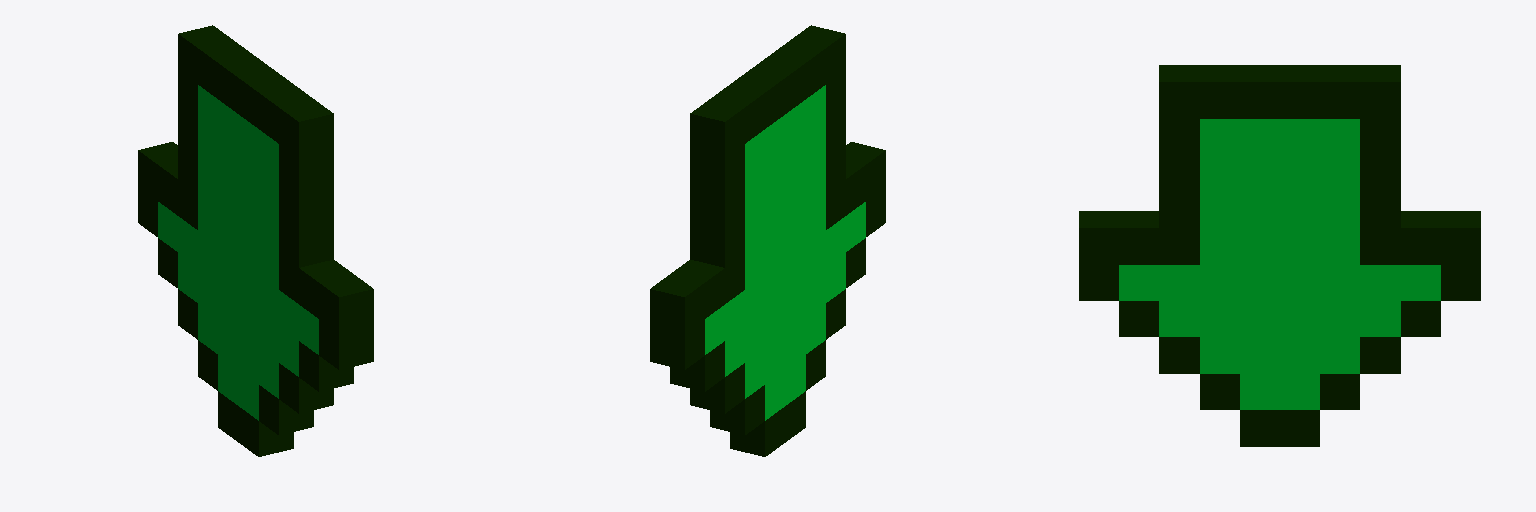
The picture shows the model from 3 angles: view 1: azimuth 30°, elevation 25°; view 2: azimuth 150°, elevation 25°; view 3: azimuth 270°, elevation 25°; orthographic projection.
Parts seen in each view (by area): view 1: object 1; view 2: object 1; view 3: object 1.
Boxes of the visible parts, x1=… form: object 1: x1=138, y1=25, x2=373, y2=456; object 1: x1=650, y1=25, x2=885, y2=456; object 1: x1=1079, y1=65, x2=1480, y2=446.
Bounding box in the file's own units: 0.1 × 1 × 1.
1 materials, 1 textured.